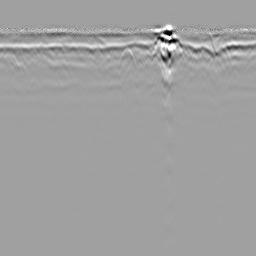cavity: (118, 44, 138, 73)
